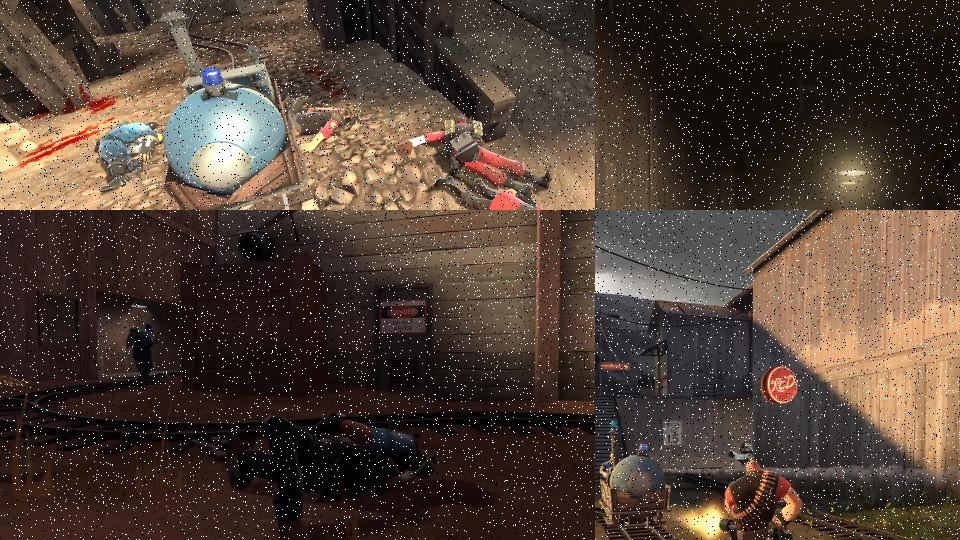Enemy: (225, 409, 441, 540), (394, 111, 563, 208), (424, 163, 590, 210), (720, 462, 803, 540), (89, 115, 164, 193), (282, 92, 361, 157), (126, 322, 162, 389)
